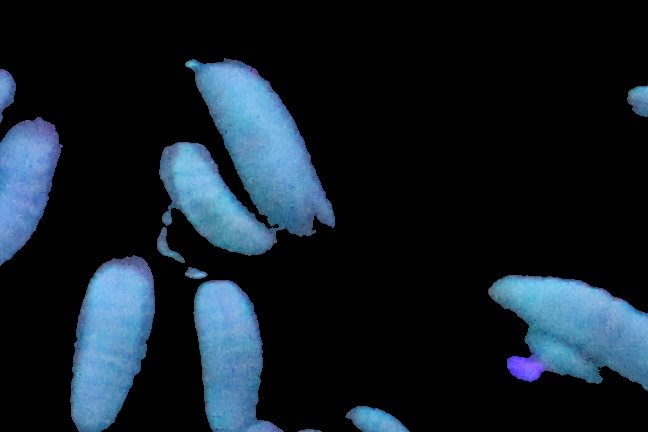larvae: (192, 57, 333, 232), (486, 273, 648, 395), (73, 255, 155, 432), (162, 141, 278, 255), (194, 281, 265, 432), (1, 118, 59, 269)
